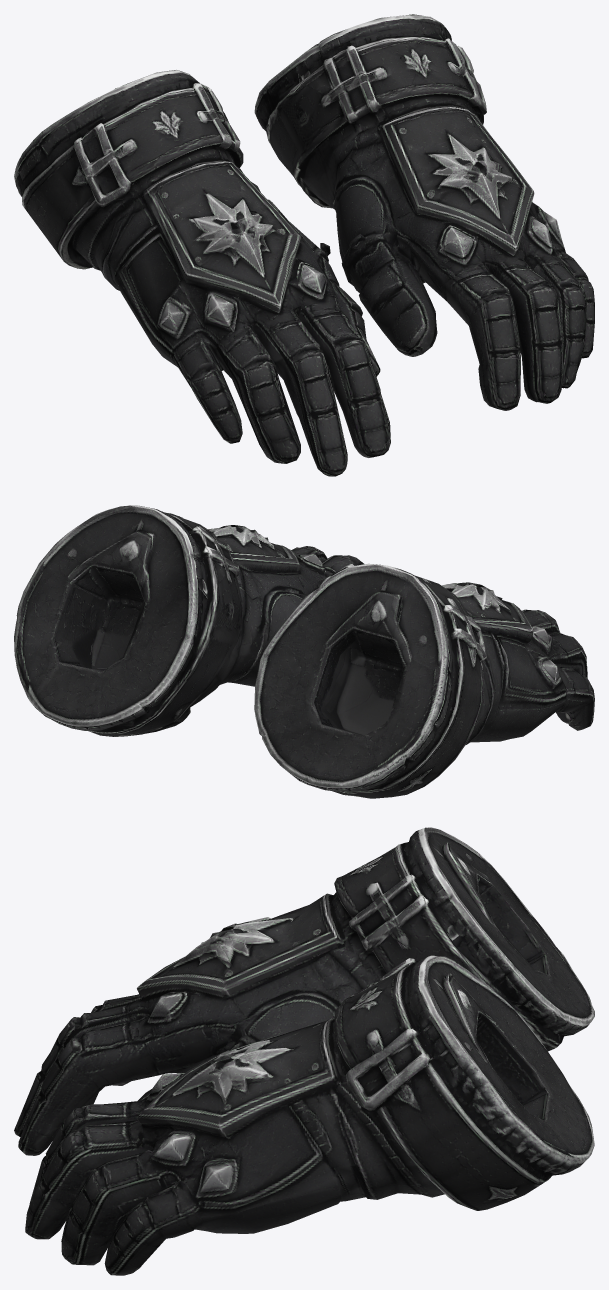
File: Meshy_AI_Black_Star_Gauntlets_0601000253_texture.glb
The picture shows the model from 3 angles, top to bottom: view 1: azimuth 30°, elevation 25°; view 2: azimuth 150°, elevation 25°; view 3: azimuth 270°, elevation 25°; orthographic projection. The views are drawn at different scales.
Visible parts, largest first — view 1: Mesh_0; view 2: Mesh_0; view 3: Mesh_0.
Boxes of the visible parts, x1,y1,x2,y2 form: Mesh_0: (14, 14, 594, 476); Mesh_0: (14, 505, 594, 798); Mesh_0: (14, 827, 594, 1275).
Size of the model in its own units: 1.79 by 1.08 by 1.91.
1 material, 1 textured.
